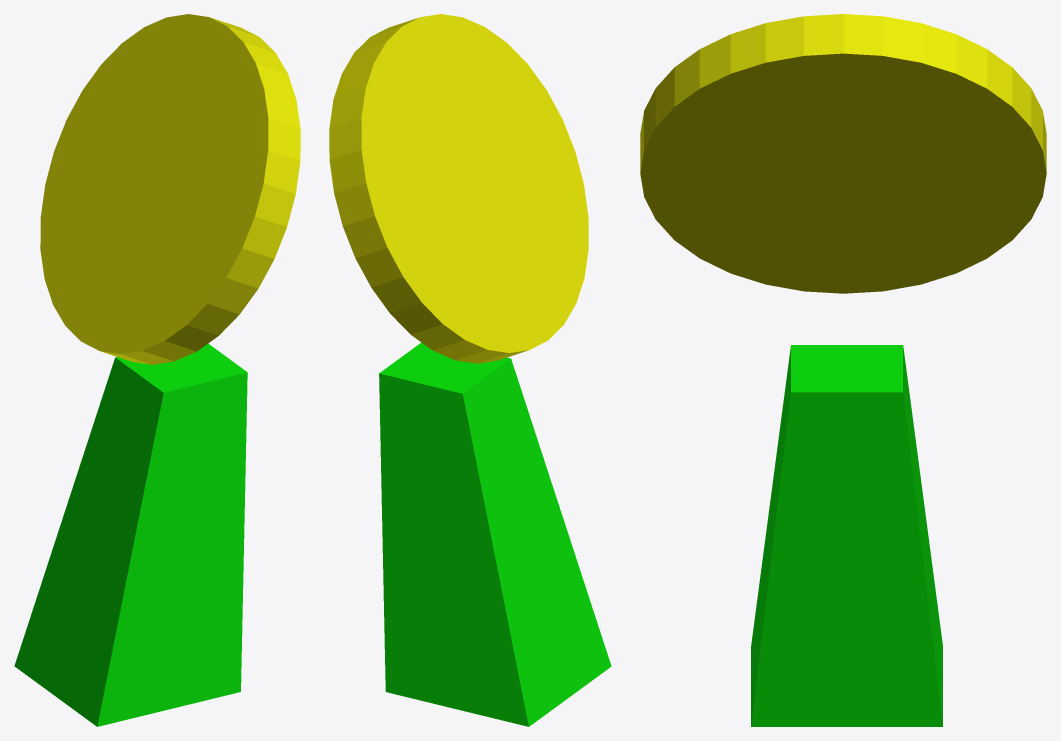
The model's file is monetn.fbx.
3 views of the same model, side by side, from view 1: azimuth 30°, elevation 25°; view 2: azimuth 150°, elevation 25°; view 3: azimuth 270°, elevation 25° (orthographic). The views are drawn at different scales.
Parts seen in each view (by area): view 1: Cylinder, Cube; view 2: Cylinder, Cube; view 3: Cylinder, Cube.
Boxes of the visible parts, x1,y1,x2,y2 form: Cylinder: (40,14,300,364); Cube: (14,343,247,726); Cylinder: (329,14,588,363); Cube: (379,342,611,726); Cylinder: (640,14,1046,293); Cube: (751,345,942,726).
Bounding box in the file's own units: 71.28 × 212 × 107.
